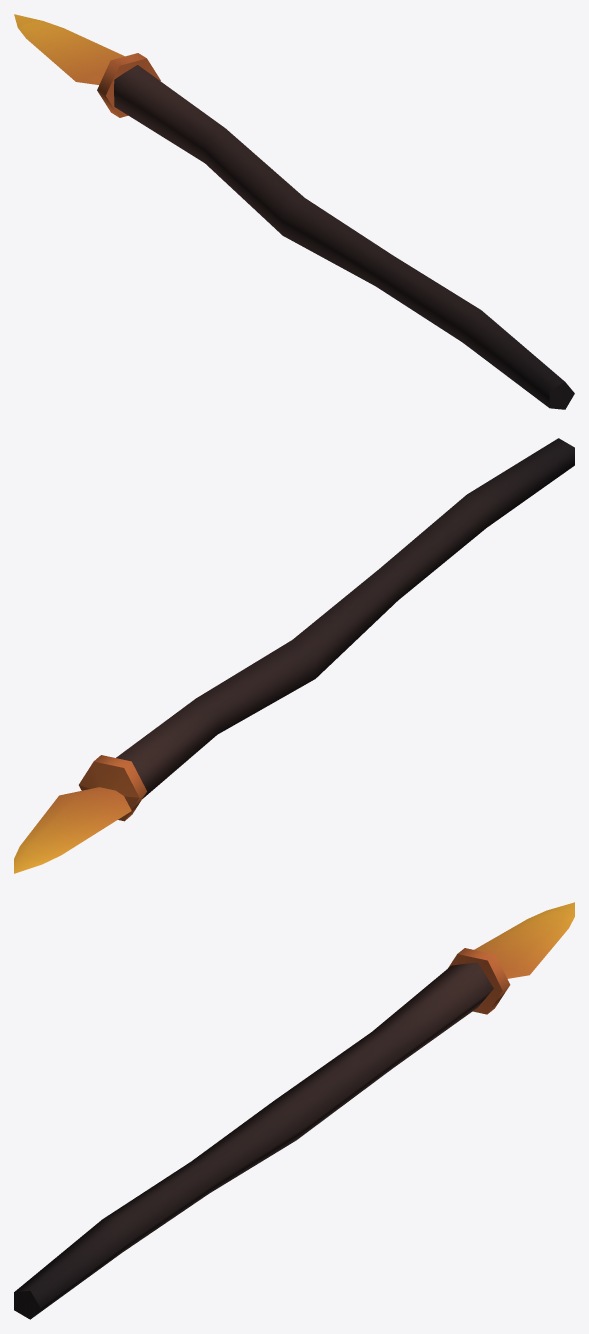
File: PropSpear.fbx
3 views of the same model, one above another, from view 1: azimuth 30°, elevation 25°; view 2: azimuth 150°, elevation 25°; view 3: azimuth 330°, elevation 25° (orthographic). The views are drawn at different scales.
Visible parts, largest first — view 1: Spear01; view 2: Spear01; view 3: Spear01.
Part boxes in pixels (box(x1,y1,x2,y2)): Spear01: box(14, 14, 574, 409); Spear01: box(14, 438, 574, 873); Spear01: box(14, 902, 574, 1319).
Size of the model in its own units: 15.26 by 11.53 by 210.
Materials: 1 (1 with a texture image).
